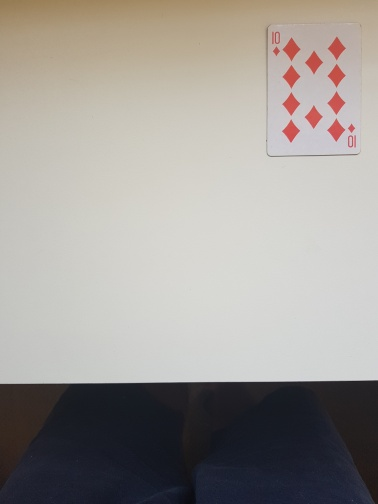ten: (265, 22, 363, 157)
